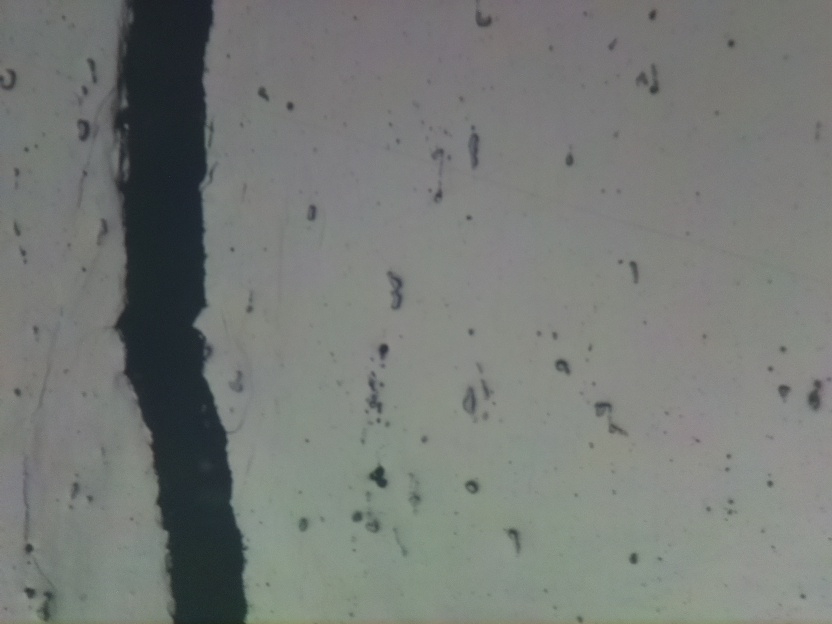crack: (118, 0, 253, 624)
